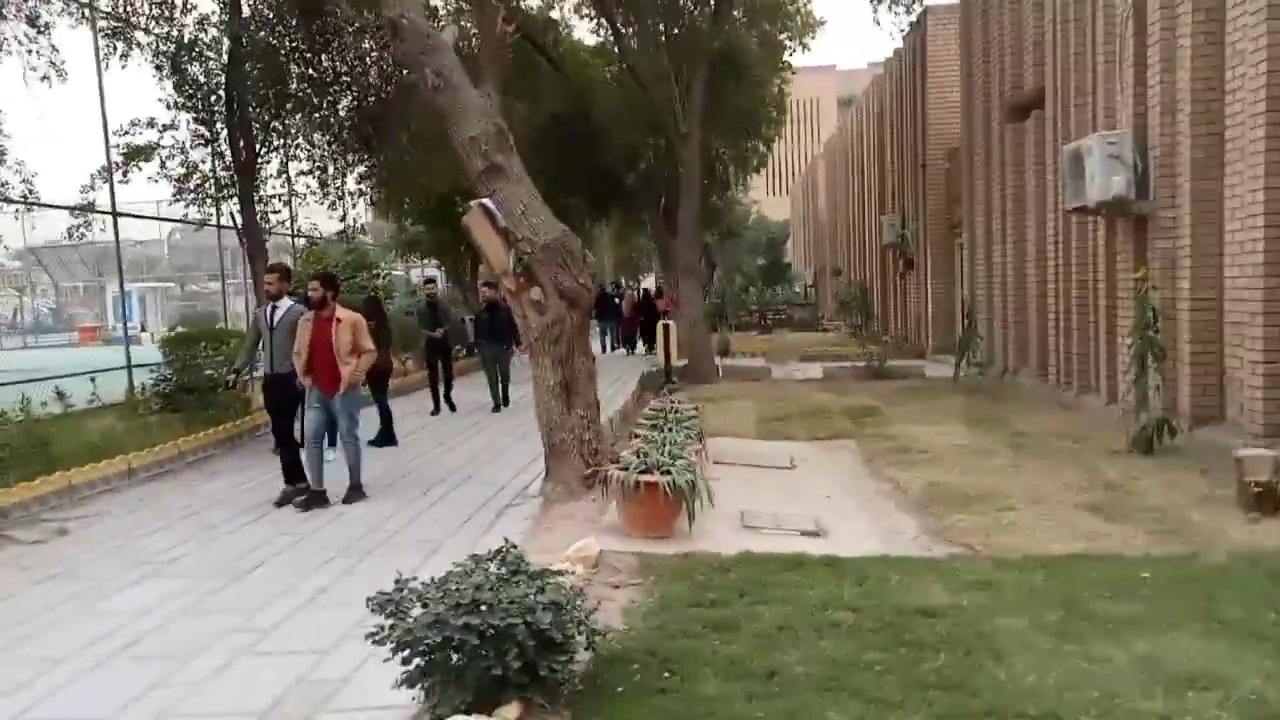person: (289, 270, 378, 511), (224, 261, 309, 506), (473, 280, 522, 412), (358, 294, 398, 447), (415, 277, 457, 416)
tree: (368, 0, 611, 502), (89, 0, 398, 330), (573, 0, 825, 385), (362, 535, 622, 718), (582, 387, 718, 538), (703, 204, 802, 351), (1116, 263, 1180, 454), (134, 322, 248, 414), (741, 212, 801, 332), (833, 276, 876, 356), (952, 305, 984, 381)
